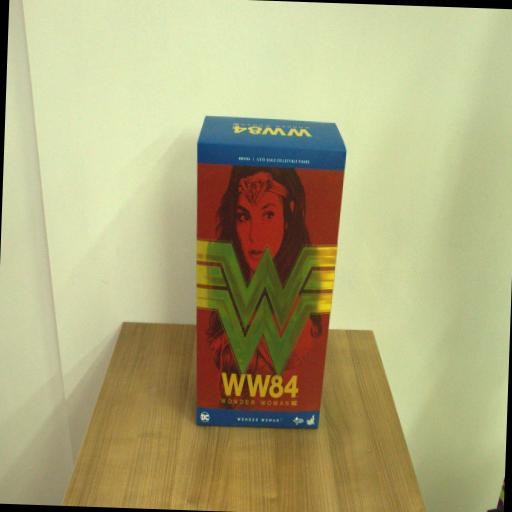WonderWoman: (186, 112, 348, 438)
